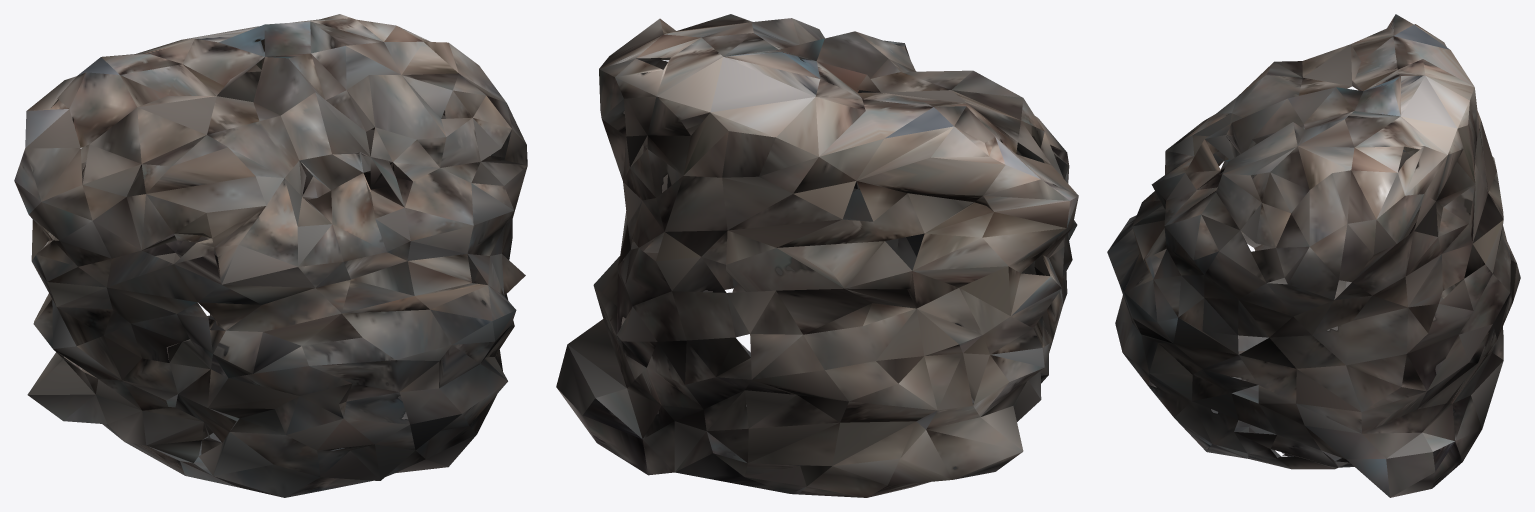
File: 13_belltower.fbx
3 views of the same model, side by side, from view 1: azimuth 30°, elevation 25°; view 2: azimuth 150°, elevation 25°; view 3: azimuth 270°, elevation 25° (orthographic). The views are drawn at different scales.
Parts seen in each view (by area): view 1: 13_belltower; view 2: 13_belltower; view 3: 13_belltower.
Part boxes in pixels (bbox=[...]): 13_belltower: bbox=[14, 14, 527, 497]; 13_belltower: bbox=[556, 14, 1078, 497]; 13_belltower: bbox=[1107, 14, 1520, 497].
Bounding box in the file's own units: 50 × 40.04 × 43.06.
Materials: 1 (1 with a texture image).
